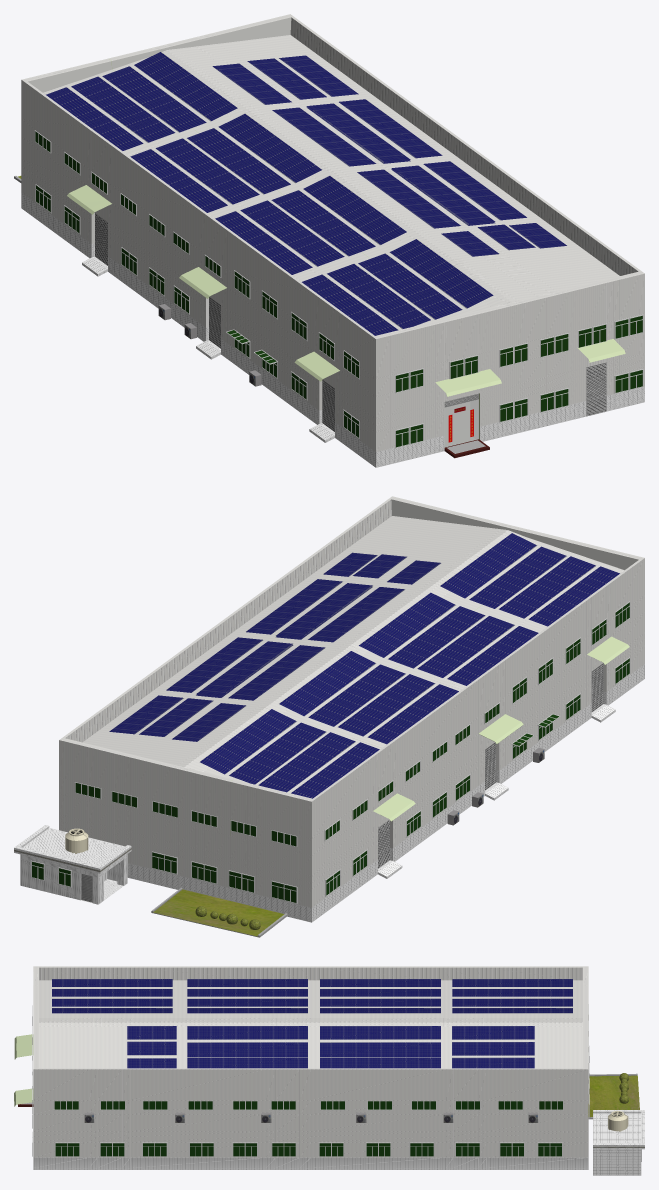
The model's file is mvp_building.fbx.
3 views of the same model, one above another, from view 1: azimuth 30°, elevation 25°; view 2: azimuth 150°, elevation 25°; view 3: azimuth 270°, elevation 25° (orthographic). The views are drawn at different scales.
Visible parts, largest first — view 1: MVP大樓, 太陽能板.012, 太陽能板.013, 太陽能板.014, 太陽能板.024, 太陽能板.016, 太陽能板.017, 太陽能板.020, 太陽能板.018, 太陽能板.019, 太陽能板.025, 太陽能板.015 (+17 smaller); view 2: MVP大樓, 舊警衛室, 平面.041, 太陽能板.024, 太陽能板.012, 太陽能板.013, 太陽能板.014, 太陽能板.015, 太陽能板.017, 太陽能板.020, 太陽能板.025, 太陽能板.026 (+19 smaller); view 3: MVP大樓, 舊警衛室, 太陽能板, 太陽能板.002, 太陽能板.006, 太陽能板.008, 平面.041, 太陽能板.009, 太陽能板.011, 太陽能板.001, 太陽能板.004, 太陽能板.015 (+20 smaller).
Boxes of the visible parts, x1,y1,x2,y2 form: MVP大樓: (21, 14, 644, 467); 太陽能板.012: (303, 176, 406, 245); 太陽能板.013: (134, 52, 237, 121); 太陽能板.014: (218, 113, 321, 183); 太陽能板.024: (389, 239, 493, 308); 太陽能板.016: (102, 66, 206, 132); 太陽能板.017: (187, 128, 290, 194); 太陽能板.020: (155, 138, 259, 204); 太陽能板.018: (240, 200, 344, 266); 太陽能板.019: (71, 76, 175, 142); 太陽能板.025: (358, 253, 462, 319); 太陽能板.015: (271, 190, 375, 256); MVP大樓: (59, 496, 644, 922); 舊警衛室: (14, 825, 131, 904); 平面.041: (151, 887, 287, 937); 太陽能板.024: (440, 533, 537, 598); 太陽能板.012: (358, 592, 455, 657); 太陽能板.013: (200, 709, 296, 774); 太陽能板.014: (279, 651, 376, 716); 太陽能板.015: (388, 606, 485, 668); 太陽能板.017: (308, 664, 405, 726); 太陽能板.020: (338, 674, 435, 736); 太陽能板.025: (469, 546, 566, 608); 太陽能板.026: (498, 556, 596, 618); MVP大樓: (14, 966, 588, 1169); 舊警衛室: (593, 1110, 644, 1175); 太陽能板: (187, 1026, 307, 1039); 太陽能板.002: (320, 1026, 440, 1039); 太陽能板.006: (187, 1042, 307, 1055); 太陽能板.008: (320, 1042, 440, 1055); 平面.041: (588, 1073, 639, 1119); 太陽能板.009: (187, 1057, 307, 1068); 太陽能板.011: (320, 1057, 440, 1068); 太陽能板.001: (452, 1026, 534, 1039); 太陽能板.004: (452, 1042, 534, 1055); 太陽能板.015: (187, 998, 307, 1006).
Bounding box in the file's own units: 2930 × 1263 × 6802.
